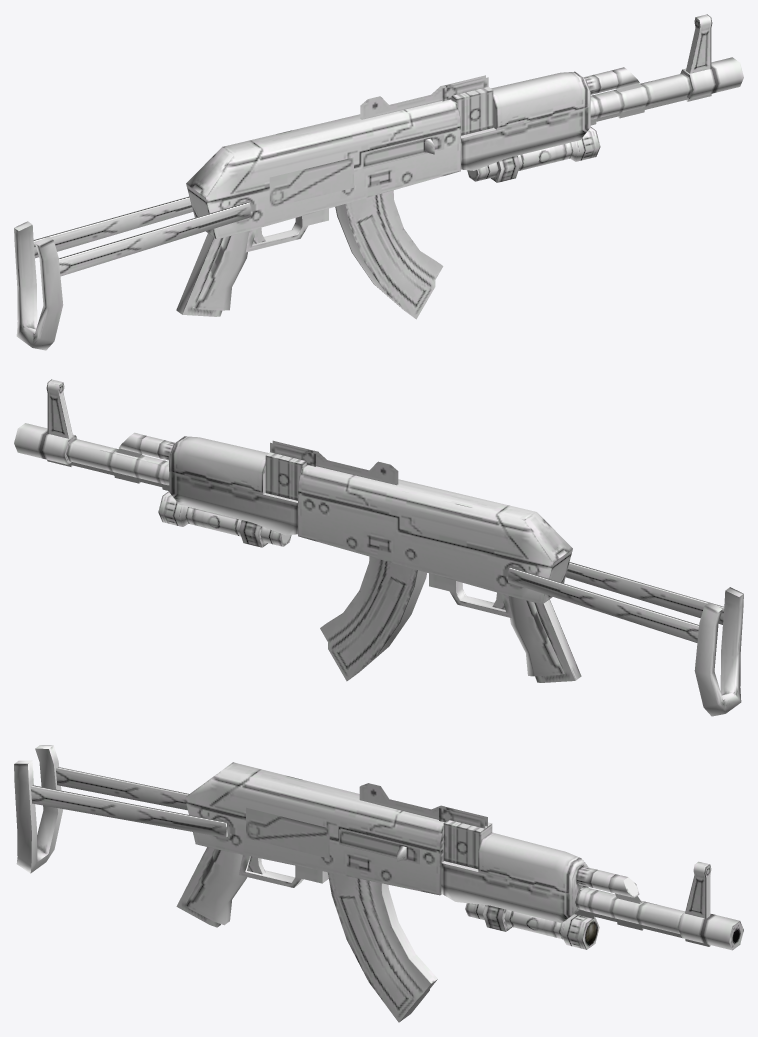
The model's file is Weapon_AssaultRifle_Weapon_AssaultRifle_SkeletalMesh3_Weapon_AssaultRifle_LOD0.psk.glb.
3 views of the same model, one above another, from view 1: azimuth 30°, elevation 25°; view 2: azimuth 150°, elevation 25°; view 3: azimuth 330°, elevation 25° (orthographic).
Size of the model in its own units: 76.41 by 23 by 6.44.
1 material, 1 textured.
